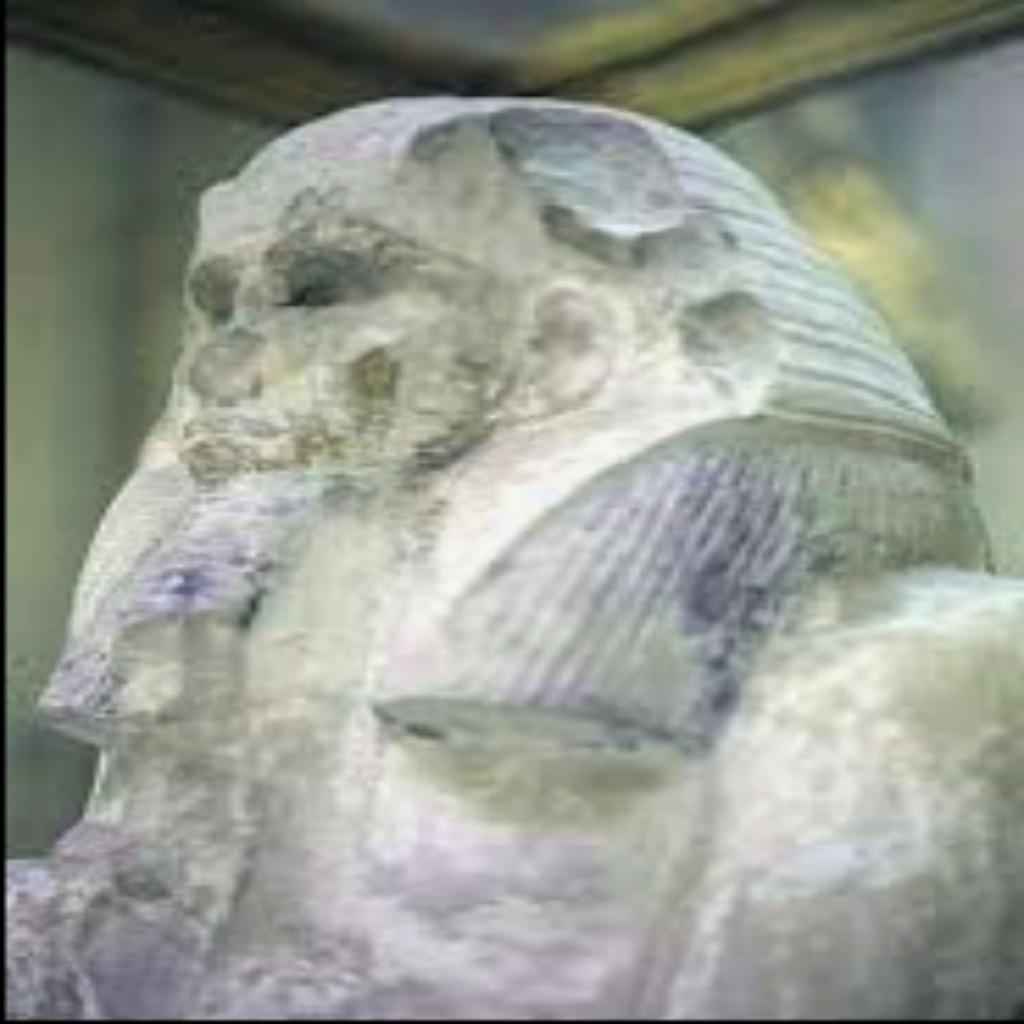Statue of King Zoser: (17, 90, 1024, 1016)
